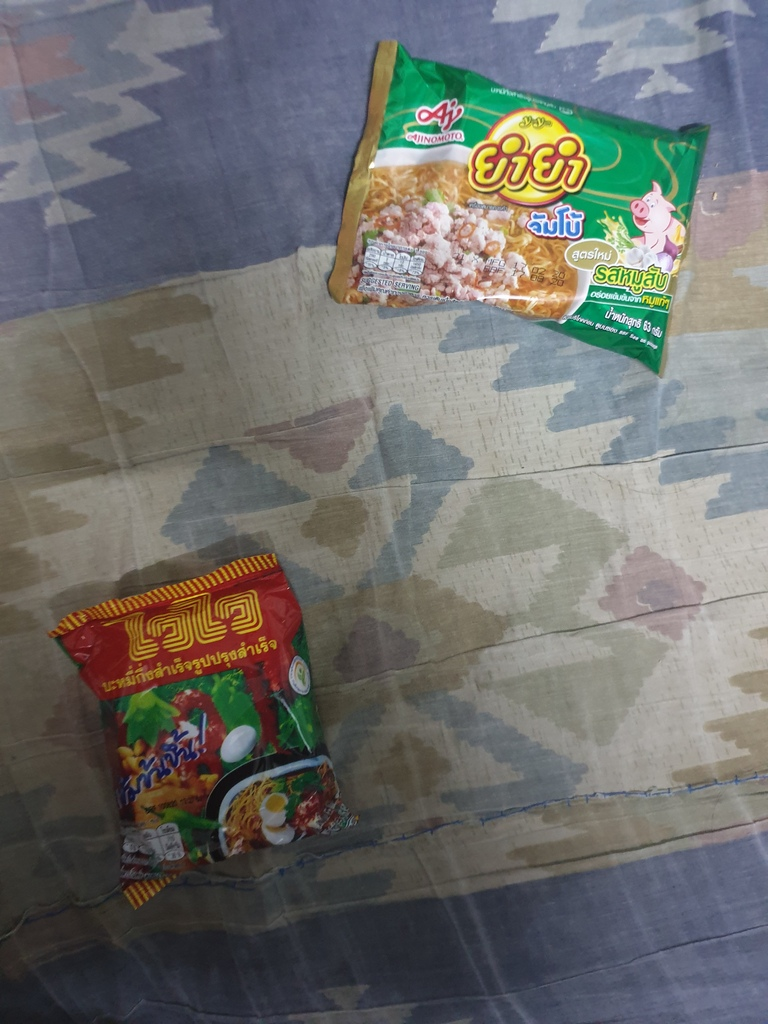waiwai: (50, 575, 377, 871)
yumyum: (332, 41, 703, 385)
